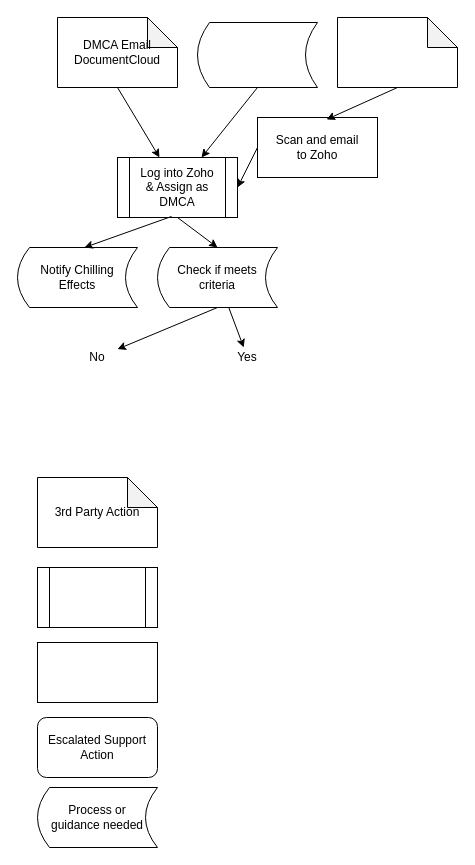
The diagram is 475 pixels wide and 865 high, and some of its shapes have lost their labels. The centre of each missing label's shape, as x and y in pixels:
"Automated Process" goes at (97,597).
"DMCA Email MuckRock" goes at (257,55).
"DMCA Letter" goes at (397,52).
"Tier One Support Action" goes at (97,672).
